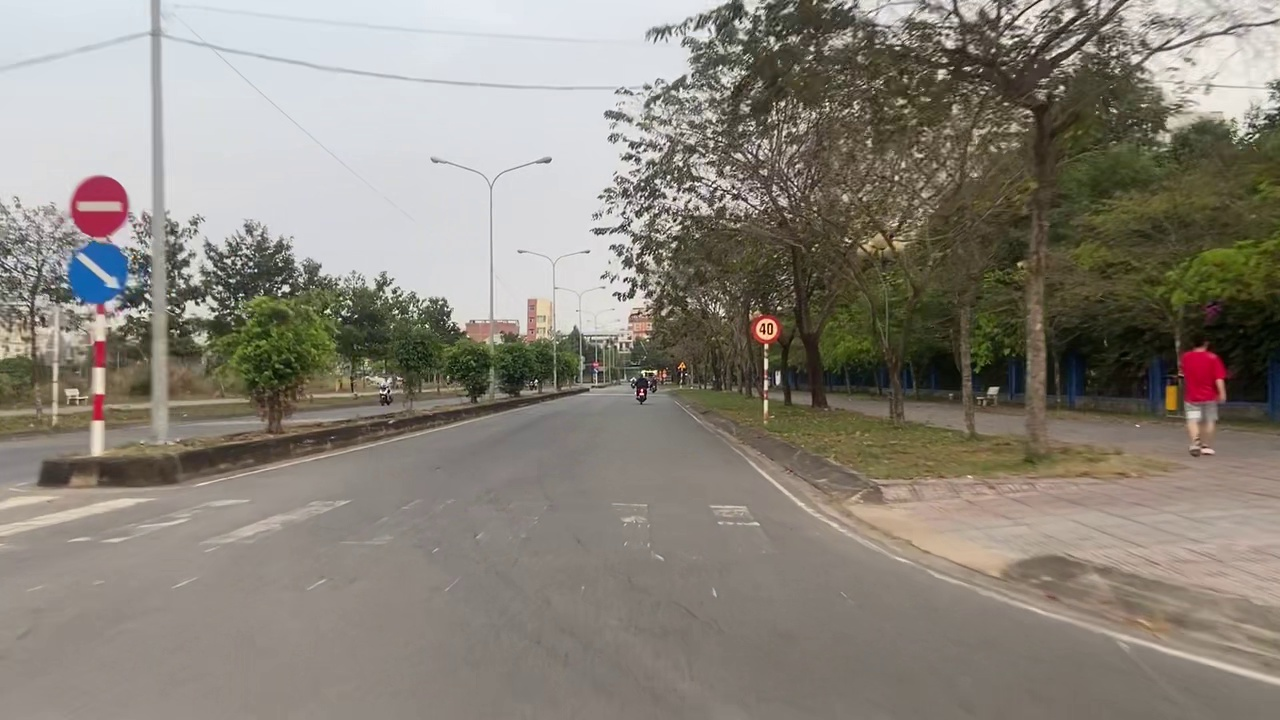cam_nguoc_chieu: (69, 174, 130, 239)
gioi_han_40km: (751, 313, 781, 345)
huong_phai_di_vong: (67, 241, 128, 306)
